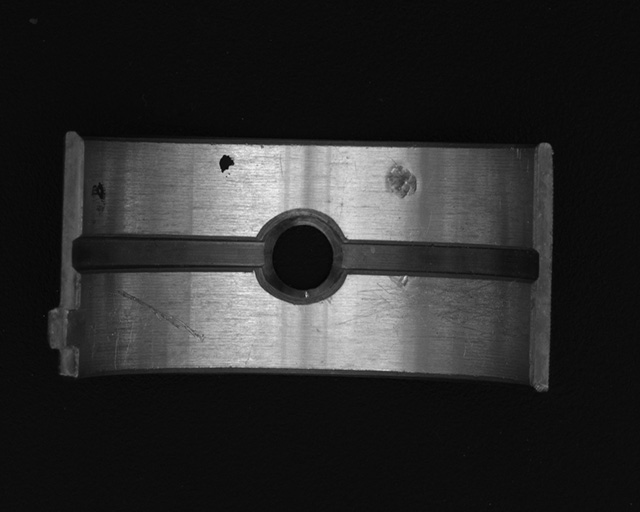blot: (91, 181, 107, 215), (218, 153, 235, 177)
bruise: (385, 162, 418, 199)
gap: (336, 239, 541, 285), (74, 234, 268, 274)
hole: (257, 210, 341, 305)
nick: (116, 289, 207, 345)
scratch: (338, 273, 522, 362)
